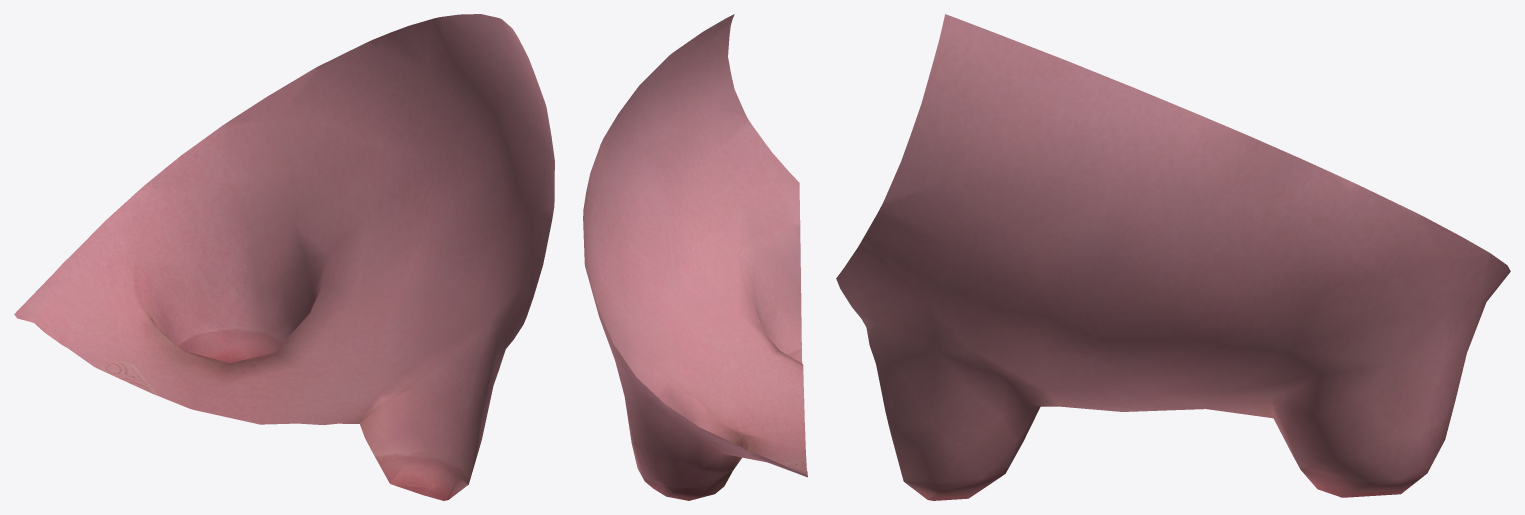
Rendered from PiggyFragment05.glb.
3 views of the same model, side by side, from view 1: azimuth 30°, elevation 25°; view 2: azimuth 150°, elevation 25°; view 3: azimuth 270°, elevation 25° (orthographic). The views are drawn at different scales.
Parts seen in each view (by area): view 1: Piece; view 2: Piece; view 3: Piece.
Part boxes in pixels (<box>): Piece: <box>14,14,554,500</box>; Piece: <box>583,14,807,500</box>; Piece: <box>836,14,1510,500</box>.
Bounding box in the file's own units: 0.4884 × 0.5853 × 0.6662.
Materials: 1 (1 with a texture image).
